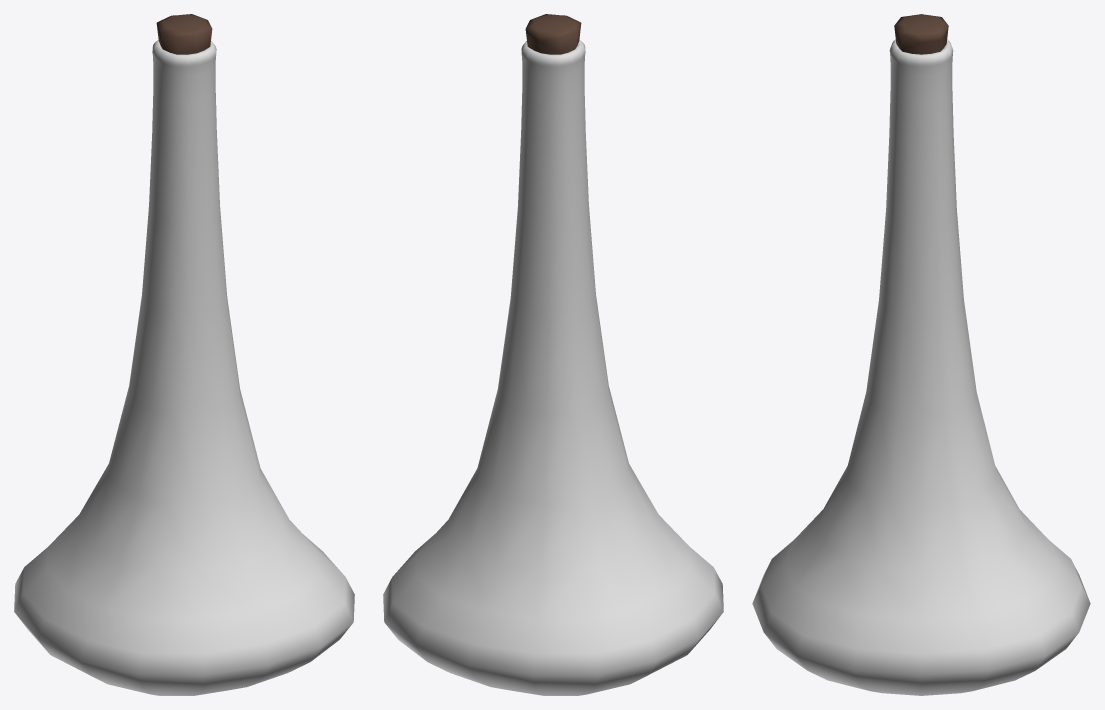
Rendered from quaternius-rpg-items-potion-7-filled.glb.
The picture shows the model from 3 angles, left to right: view 1: azimuth 30°, elevation 25°; view 2: azimuth 150°, elevation 25°; view 3: azimuth 270°, elevation 25°; orthographic projection.
Parts seen in each view (by area): view 1: Potion7_Filled; view 2: Potion7_Filled; view 3: Potion7_Filled.
Part boxes in pixels (box(x1,y1,x2,y2)): Potion7_Filled: box(14, 14, 354, 695); Potion7_Filled: box(383, 14, 723, 695); Potion7_Filled: box(752, 14, 1090, 695).
Bounding box in the file's own units: 0.7034 × 1.51 × 0.7034.
